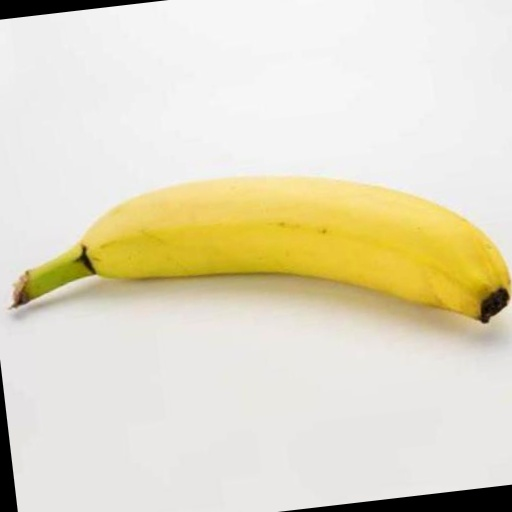fruit: (14, 177, 510, 322)
